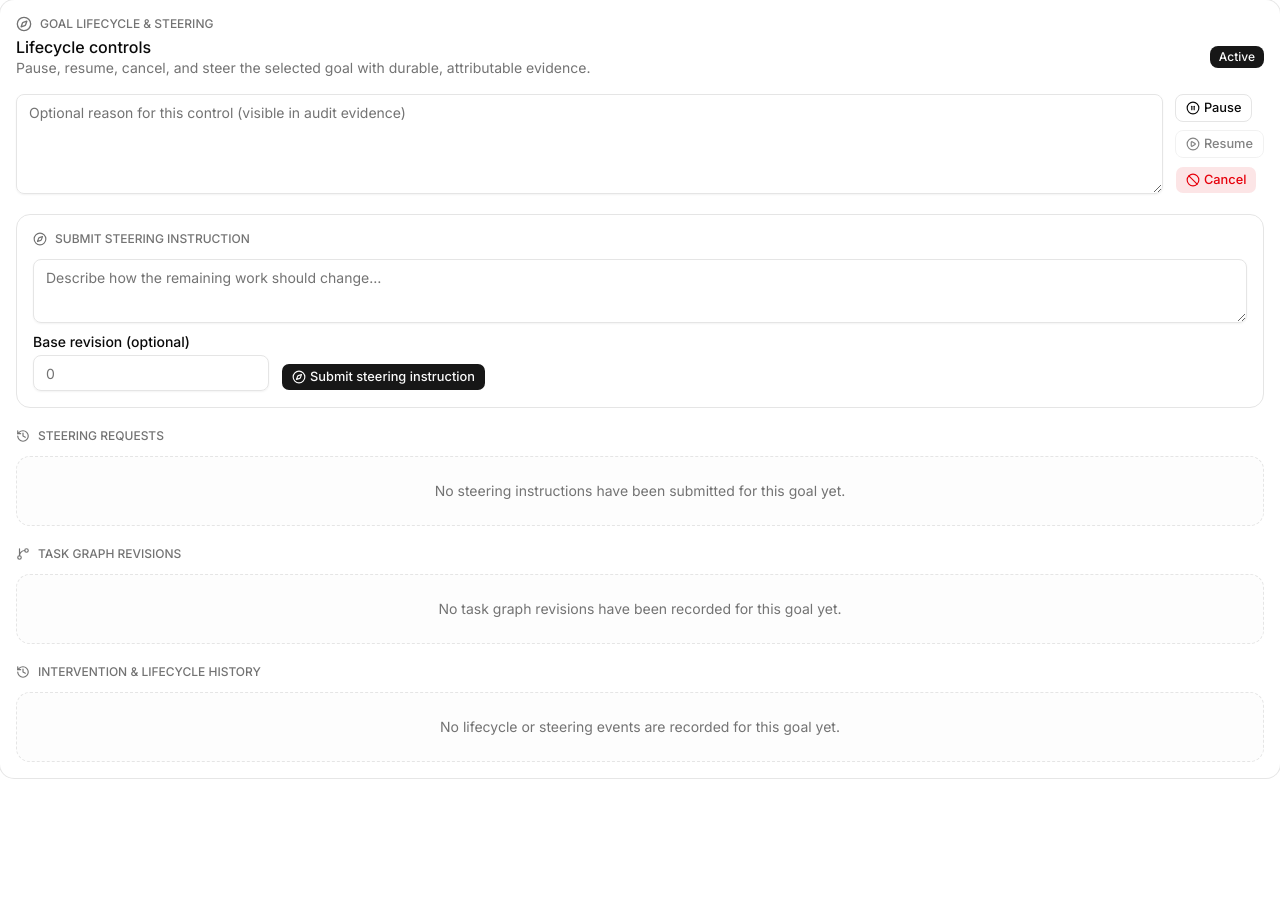
GoalLifecyclePanel › pauses an active goal and reports the persisted command
Click the button "Pause": (1214, 108) left=1175, top=94, right=1252, bottom=122
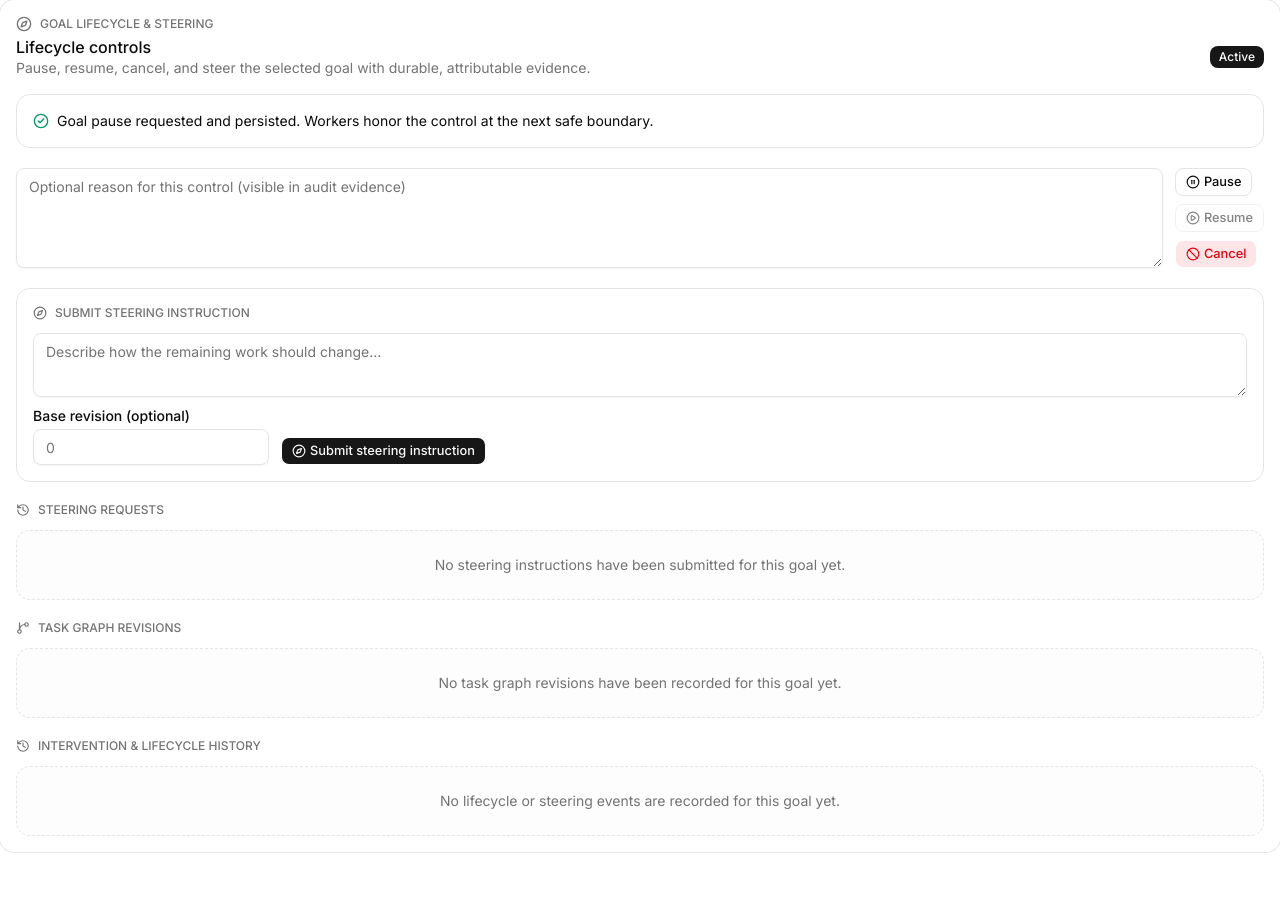
expect the text "Goal pause requested and persisted" is shown: met, box left=57, top=112, right=654, bottom=129
